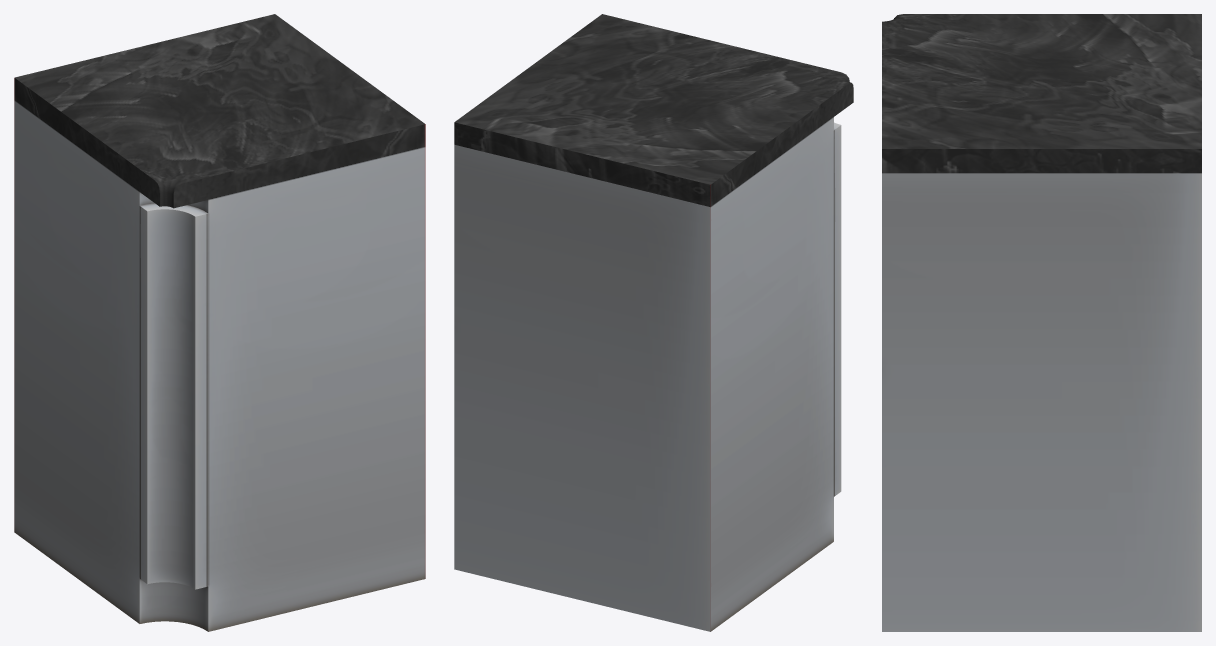
File: CafeBarStand01_4.FBX
3 renders of one model, left to right at view 1: azimuth 30°, elevation 25°; view 2: azimuth 150°, elevation 25°; view 3: azimuth 270°, elevation 25°, orthographic. The views are drawn at different scales.
Visible parts, largest first — view 1: CafeBarStand01_4; view 2: CafeBarStand01_4; view 3: CafeBarStand01_4.
Boxes of the visible parts, left/top/right/bottom form: CafeBarStand01_4: left=14, top=14, right=425, bottom=631; CafeBarStand01_4: left=454, top=14, right=853, bottom=631; CafeBarStand01_4: left=882, top=14, right=1201, bottom=631.
Size of what is drawn, in the model's own units: 0.6 by 1 by 0.6.
